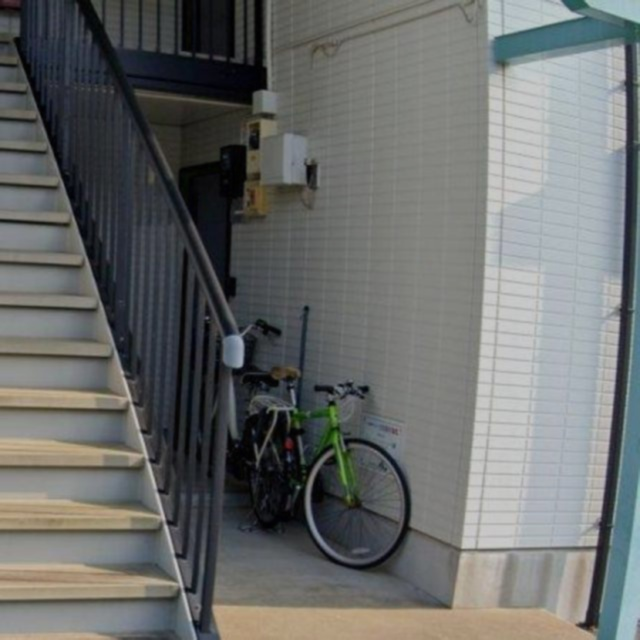bicycle: (279, 359, 443, 565), (197, 301, 319, 544)
